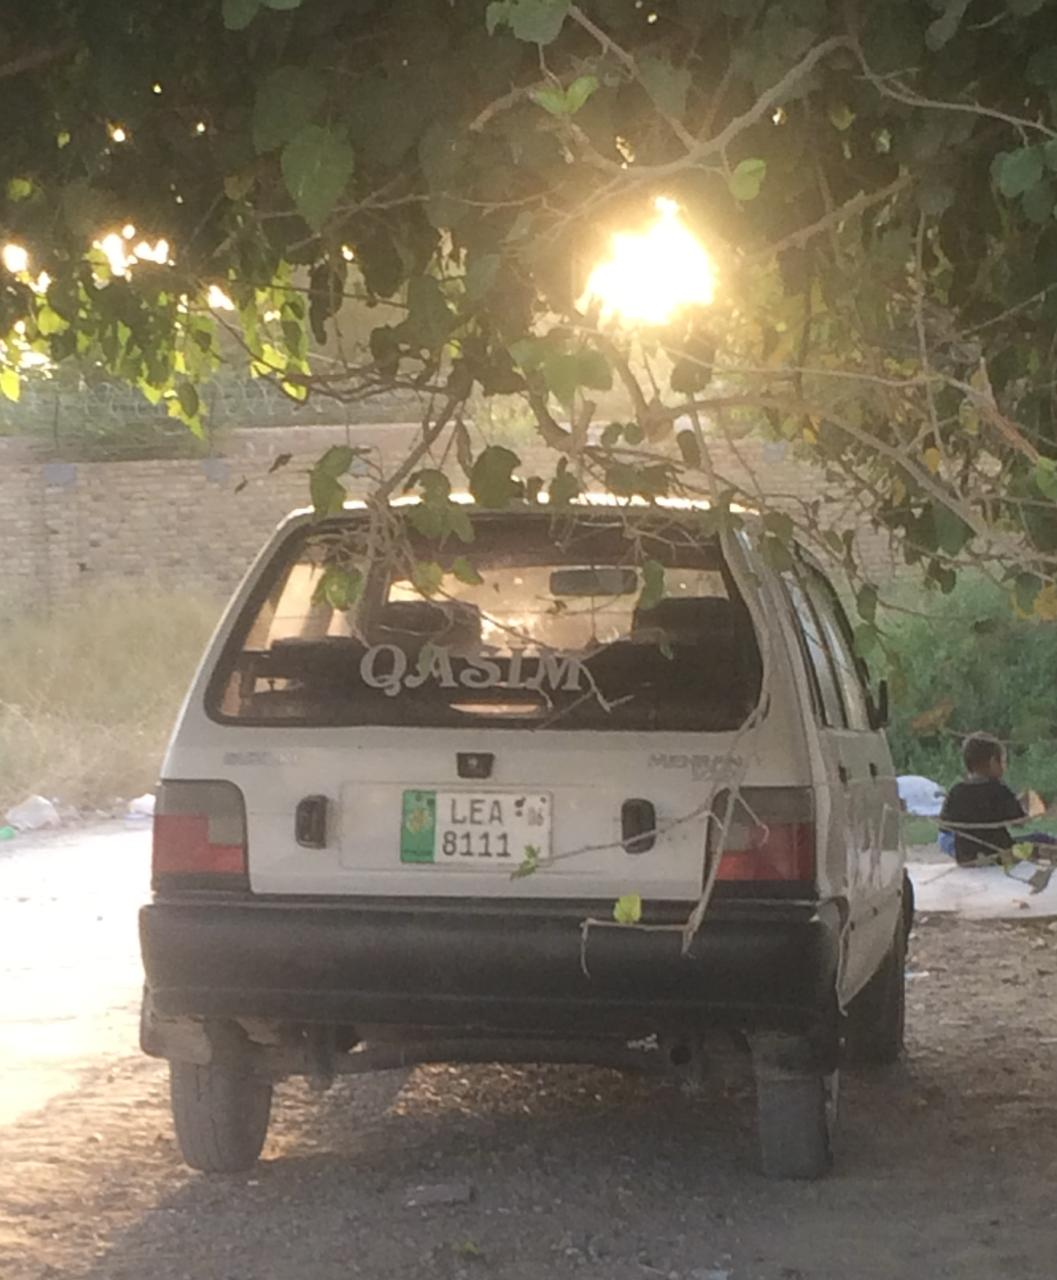license plate: (403, 789, 552, 868)
